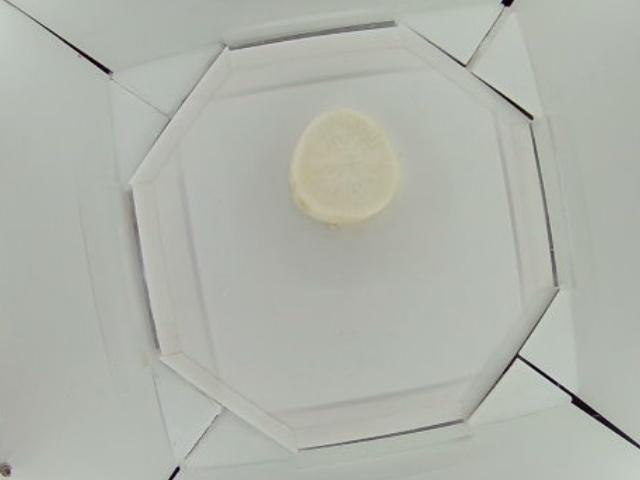Mooli: (291, 111, 402, 218)
